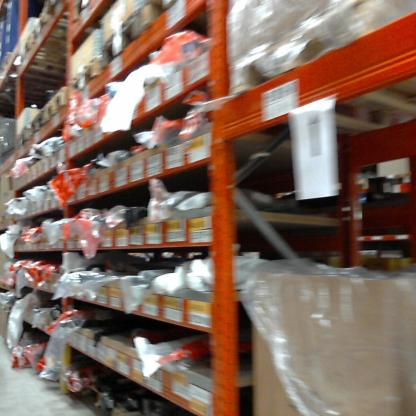pallet: (96, 5, 188, 78), (17, 21, 86, 82), (62, 57, 133, 115), (32, 1, 93, 47), (42, 87, 85, 126), (11, 120, 34, 156), (31, 104, 45, 143)
